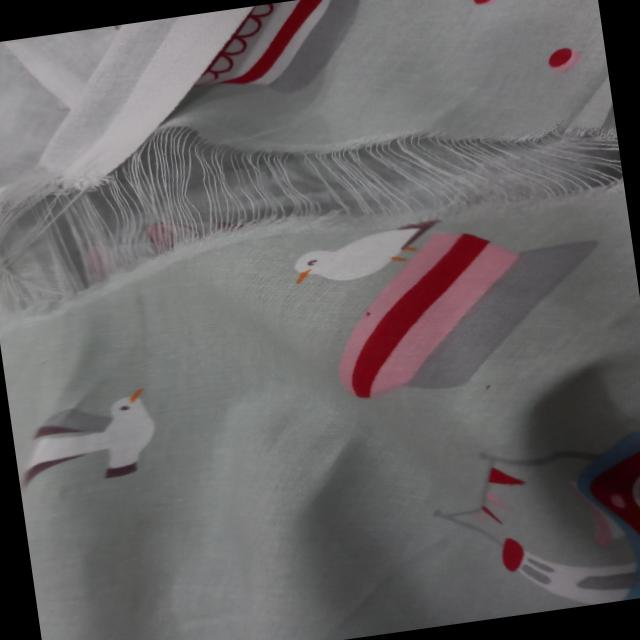cut: (0, 89, 628, 300)
